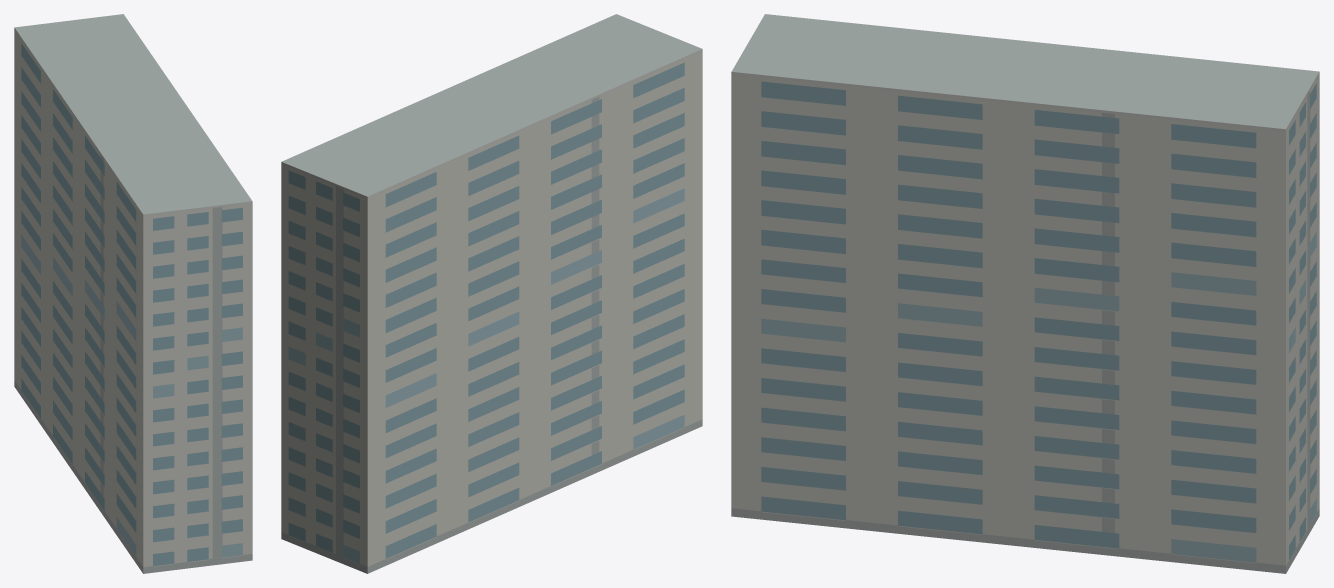
File: residential-dfa4806f-01c4-498e-8bd9-ce66dd78508e.glb
3 views of the same model, side by side, from view 1: azimuth 30°, elevation 25°; view 2: azimuth 150°, elevation 25°; view 3: azimuth 270°, elevation 25° (orthographic). The views are drawn at different scales.
Parts seen in each view (by area): view 1: residential-dfa4806f-01c4-498e-8bd9-ce66dd78508e.tmp; view 2: residential-dfa4806f-01c4-498e-8bd9-ce66dd78508e.tmp; view 3: residential-dfa4806f-01c4-498e-8bd9-ce66dd78508e.tmp.
Boxes of the visible parts, bbox=[...] form: residential-dfa4806f-01c4-498e-8bd9-ce66dd78508e.tmp: bbox=[14, 14, 252, 573]; residential-dfa4806f-01c4-498e-8bd9-ce66dd78508e.tmp: bbox=[281, 14, 702, 573]; residential-dfa4806f-01c4-498e-8bd9-ce66dd78508e.tmp: bbox=[731, 14, 1319, 573].
Size of the model in its own units: 24.46 by 44 by 52.74.
